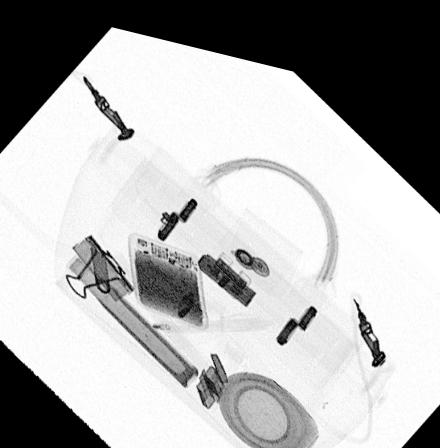Powerbank: (125, 224, 208, 321)
